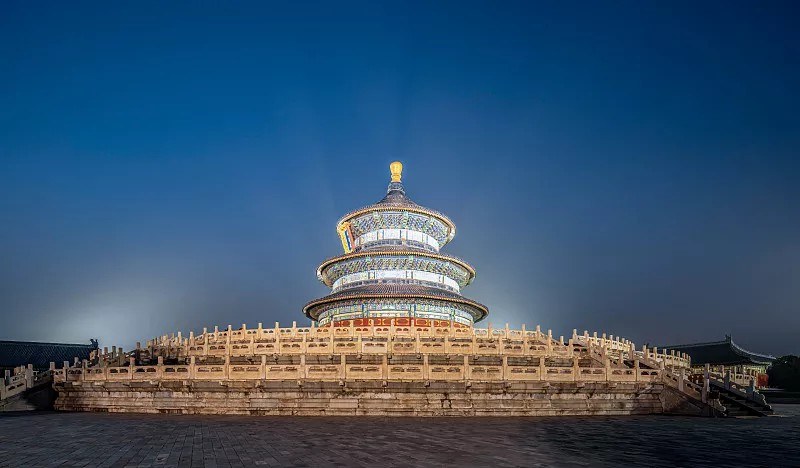Heaven: (302, 161, 492, 333)
